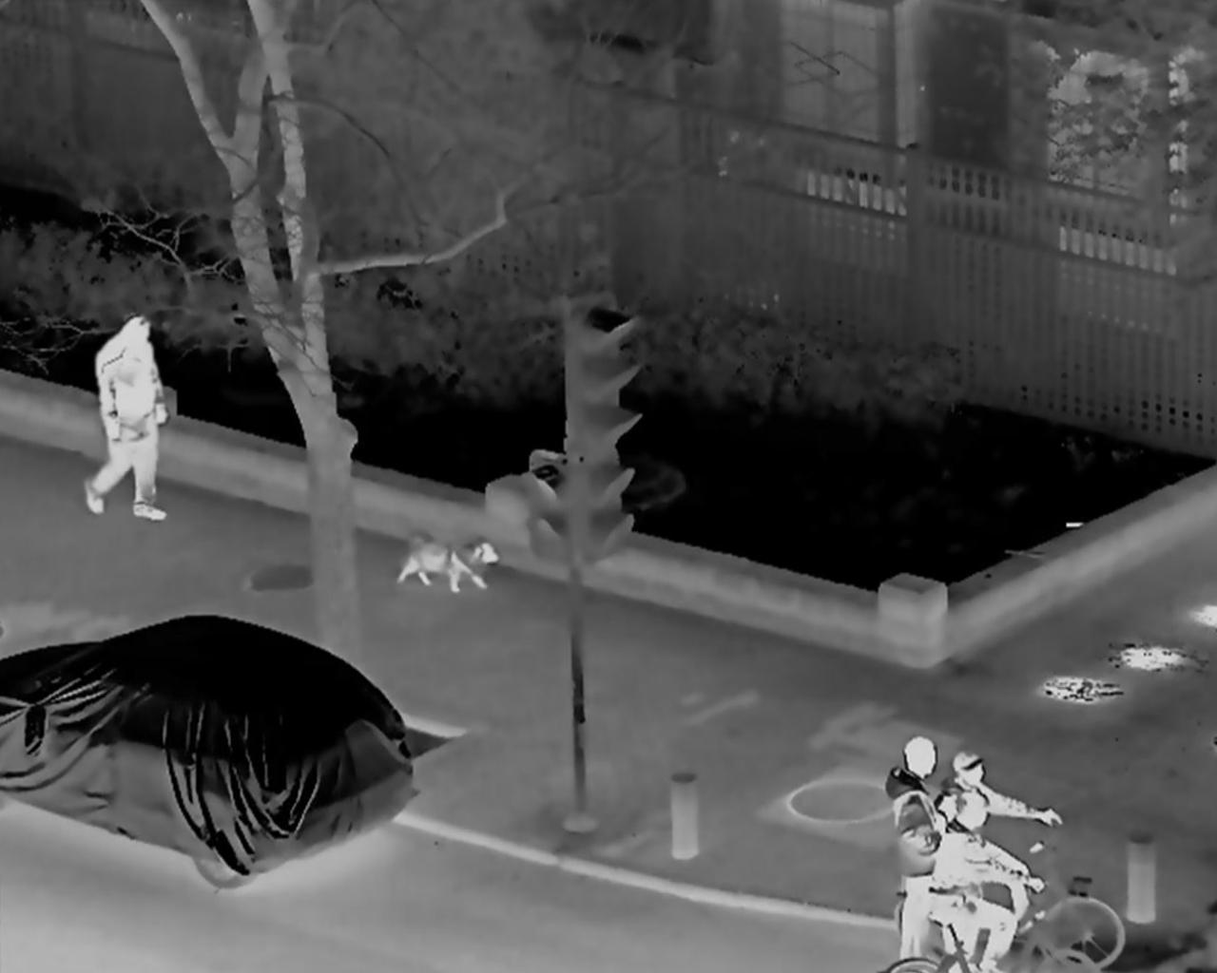person: (920, 745, 1060, 928), (79, 315, 179, 520), (926, 792, 1041, 970), (878, 734, 940, 973)
